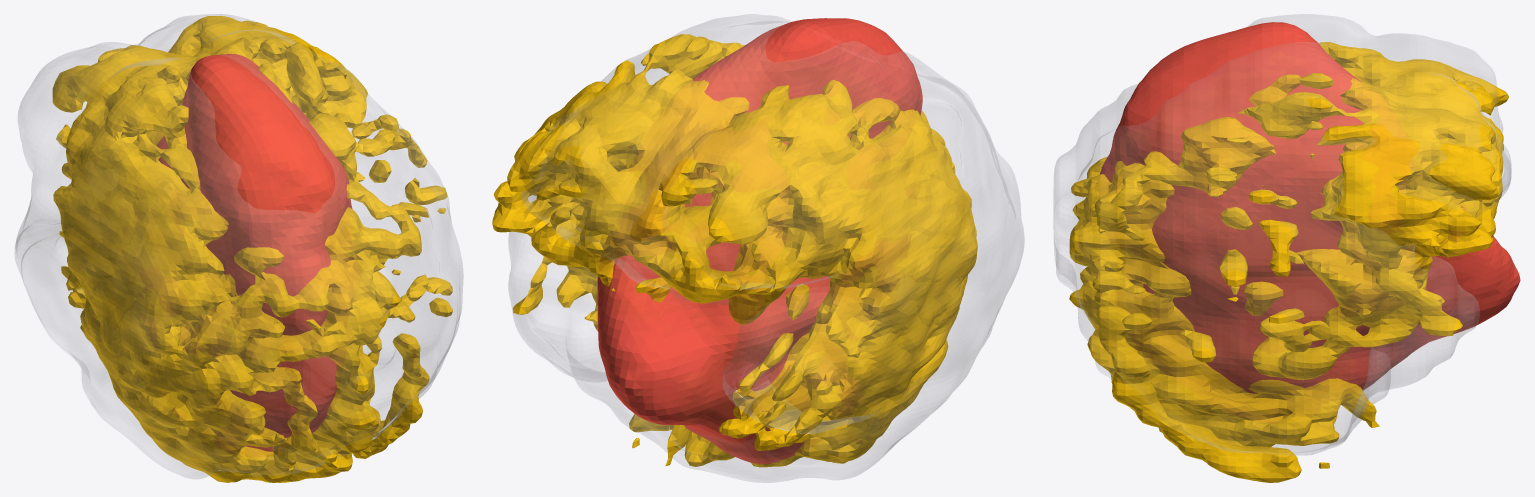
Rendered from case_16.gltf.
3 renders of one model, left to right at view 1: azimuth 30°, elevation 25°; view 2: azimuth 150°, elevation 25°; view 3: azimuth 270°, elevation 25°, orthographic. The views are drawn at different scales.
Visible parts, largest first — view 1: brain, penumbra, stroke; view 2: brain, penumbra, stroke; view 3: brain, penumbra, stroke.
Part boxes in pixels (x1,y1,x2,y2): brain: (14, 14, 463, 479); penumbra: (52, 16, 452, 482); stroke: (156, 53, 352, 451); brain: (508, 14, 1024, 482); penumbra: (492, 34, 977, 467); stroke: (597, 18, 922, 464); brain: (1053, 14, 1511, 455); penumbra: (1069, 42, 1508, 482); stroke: (1099, 22, 1520, 393).
Bounding box in the file's own units: 1.78 × 1.91 × 2.
